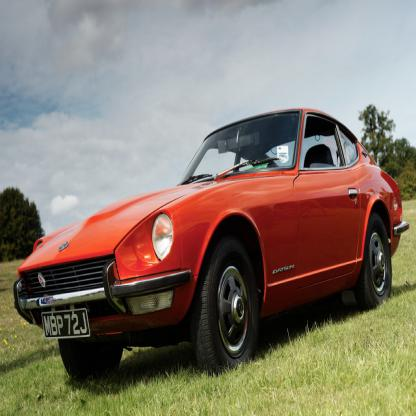Car: (13, 107, 410, 382)
